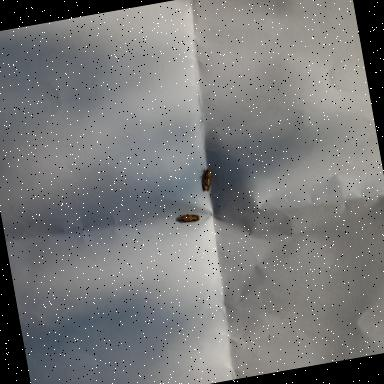pbw: (199, 166, 214, 192), (178, 212, 202, 224)
